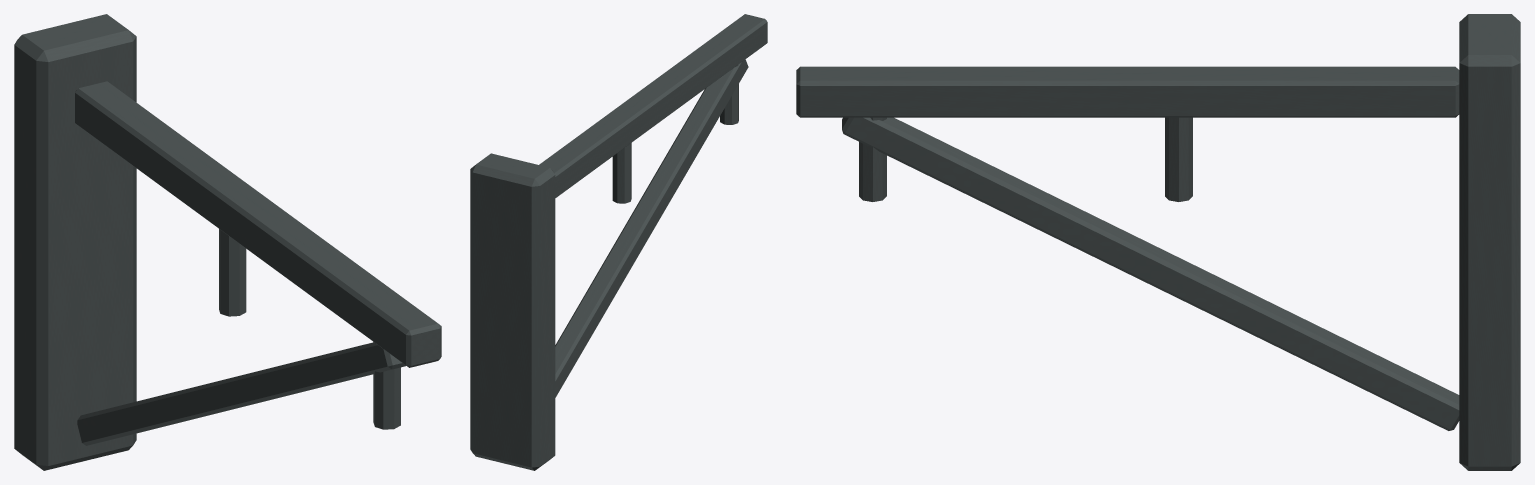
File: D_SignBracket_Braced_visual.glb
3 renders of one model, left to right at view 1: azimuth 30°, elevation 25°; view 2: azimuth 150°, elevation 25°; view 3: azimuth 270°, elevation 25°, orthographic. The views are drawn at different scales.
Parts seen in each view (by area): view 1: D_SignBracket_Braced__VIS; view 2: D_SignBracket_Braced__VIS; view 3: D_SignBracket_Braced__VIS.
Part boxes in pixels (x1,y1,x2,y2): D_SignBracket_Braced__VIS: (14,14,441,470); D_SignBracket_Braced__VIS: (470,14,767,470); D_SignBracket_Braced__VIS: (796,14,1520,470).
Size of the model in its own units: 0.45 by 1.8 by 2.84.
1 material, 1 textured.
